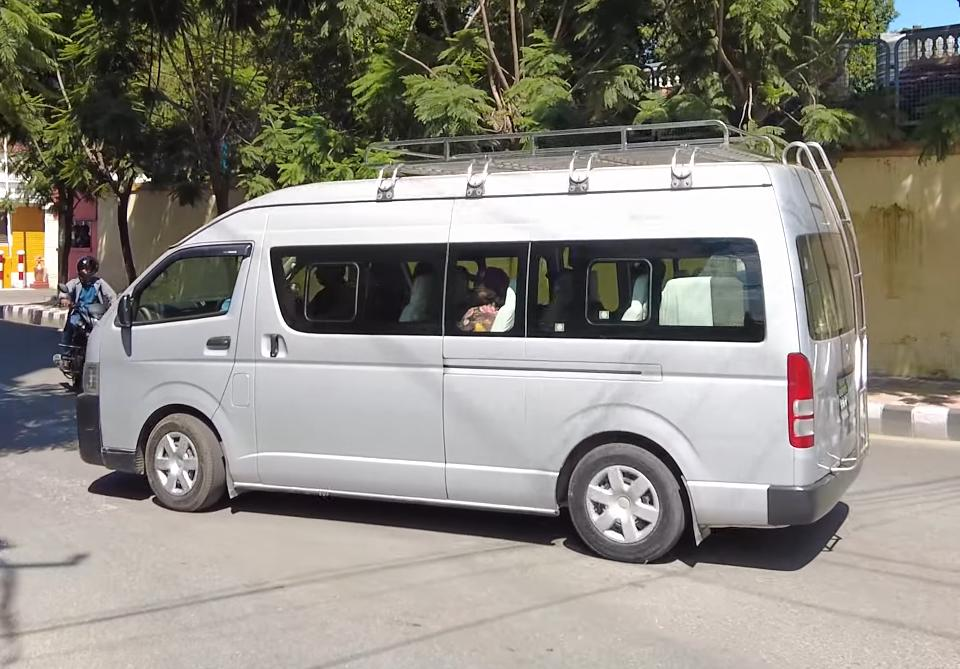bike: (55, 279, 115, 390)
micro_bus: (59, 110, 886, 580)
